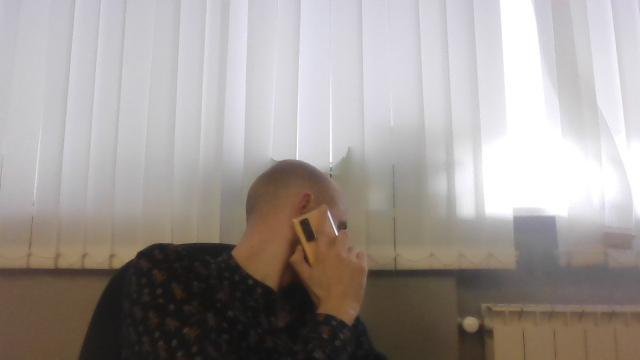PhoneUse: (290, 202, 370, 308)
